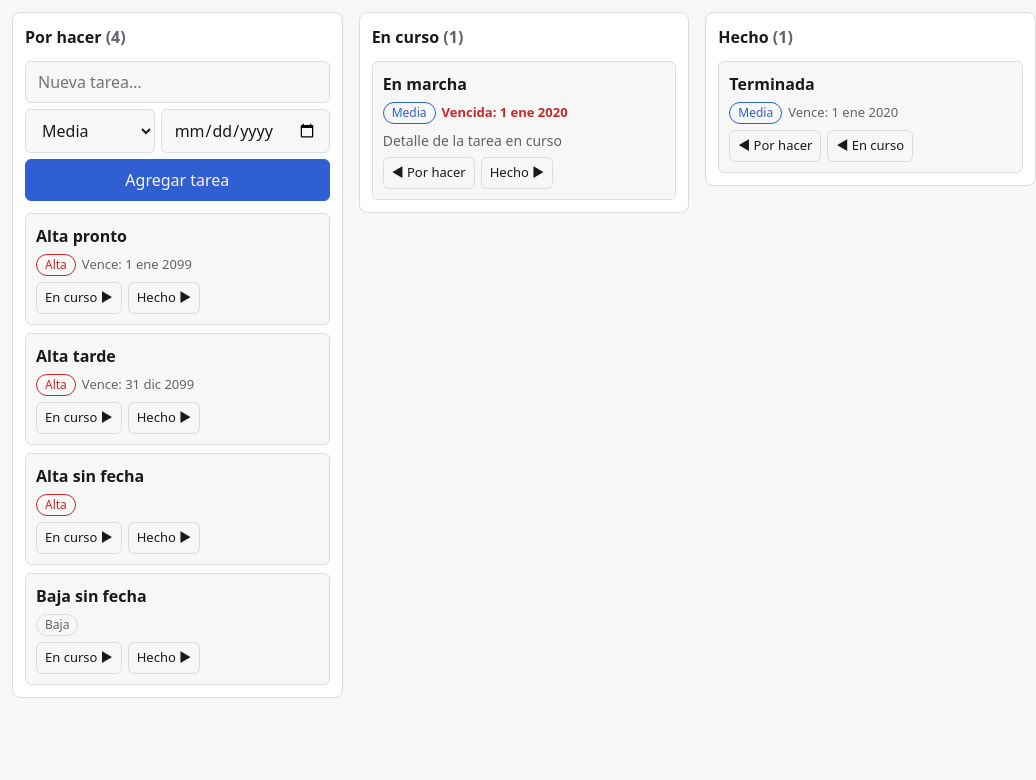
Scenario: TaskBoard moves › rolls back and shows an error when the move fails
Check: the button "En marcha" is shown, box [383,72,665,96]
Click the button with aria-label "Mover a En curso" at (79, 658), box [36,642,122,674]
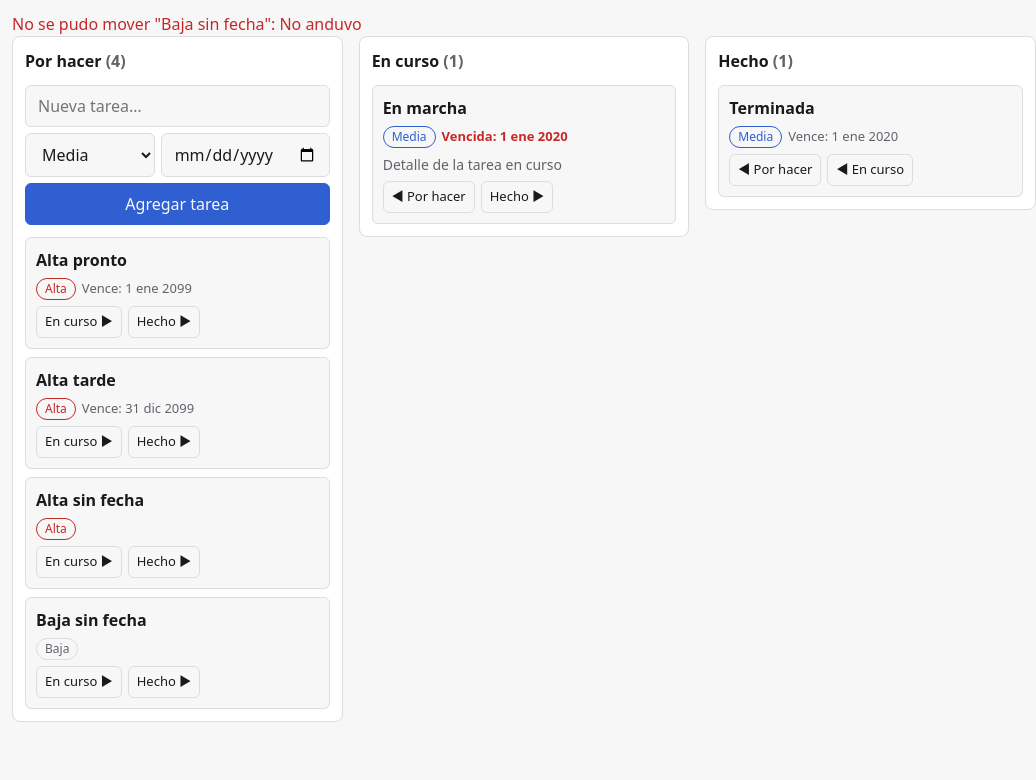
Check: the message "No se pudo mover \"Baja sin fecha\": No anduvo" is shown, box [12,13,362,35]
Check: the message shows "No anduvo", box [12,13,362,35]
